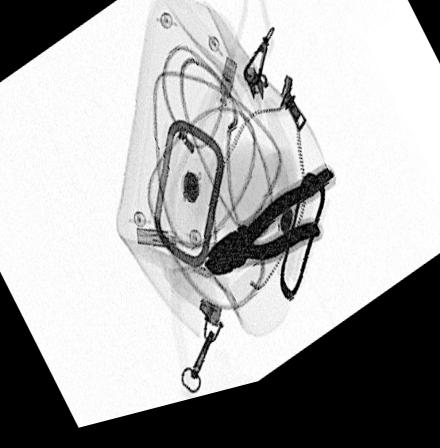Pliers: (201, 180, 341, 287)
